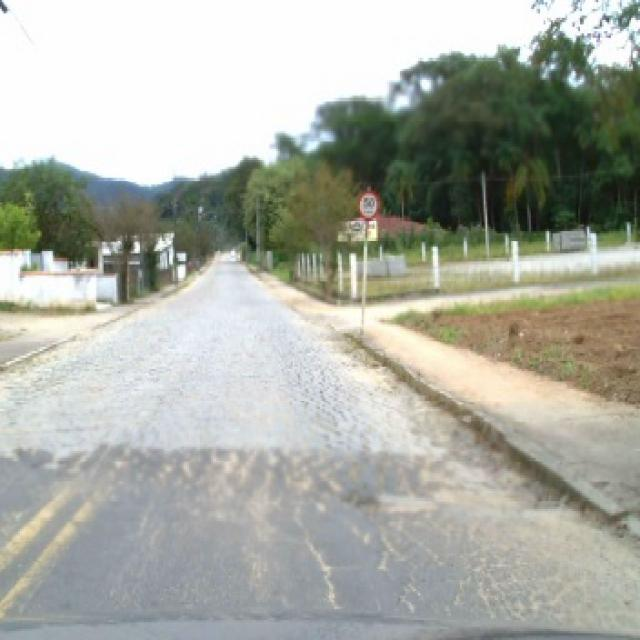Poth-hole: (154, 442, 343, 607), (451, 522, 589, 622), (338, 468, 435, 514), (373, 524, 422, 612), (112, 444, 132, 469)
